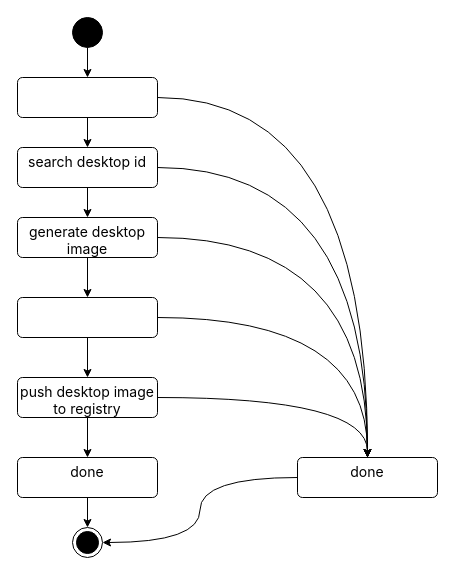
This 455x575 diagram has some shape labels left out. Each missing label, with the centre of its shape:
login to registry: the point at 87,317
snapshot process started: the point at 87,97
